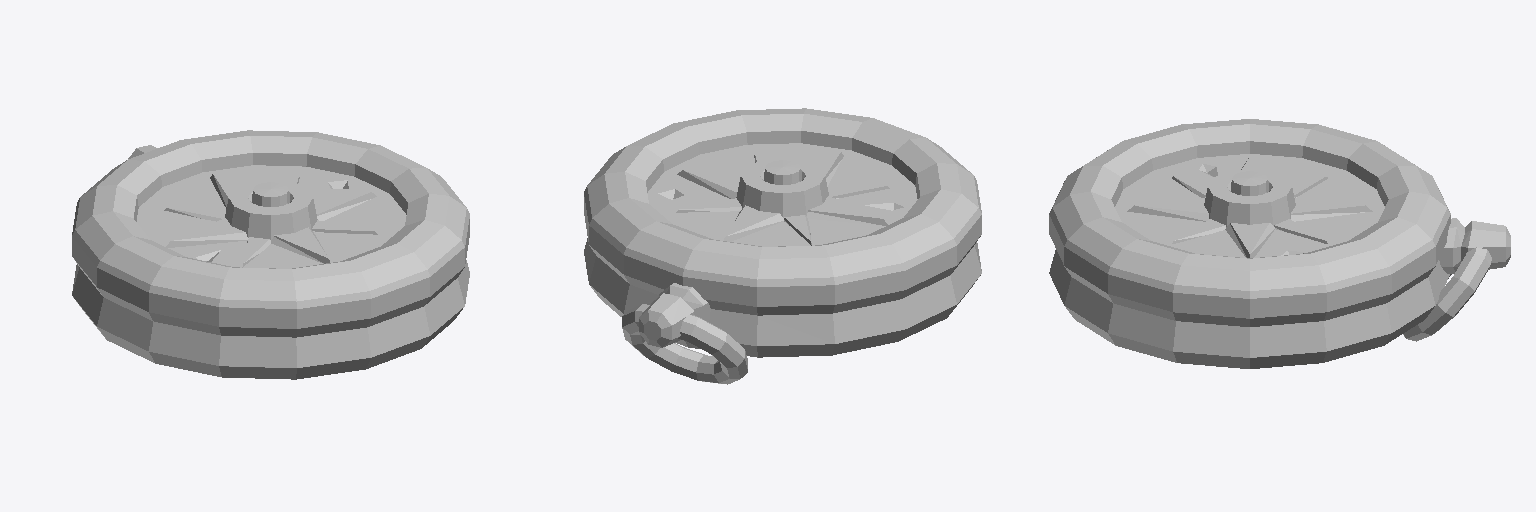
Rendered from compass_base.obj.
The picture shows the model from 3 angles: view 1: azimuth 30°, elevation 25°; view 2: azimuth 150°, elevation 25°; view 3: azimuth 270°, elevation 25°; orthographic projection.
Parts seen in each view (by area): view 1: compass_base; view 2: compass_base; view 3: compass_base.
Boxes of the visible parts, x1=… form: compass_base: x1=72, y1=130, x2=469, y2=379; compass_base: x1=584, y1=108, x2=981, y2=384; compass_base: x1=1049, y1=119, x2=1510, y2=368.
Bounding box in the file's own units: 0.574 × 0.2454 × 0.6598.